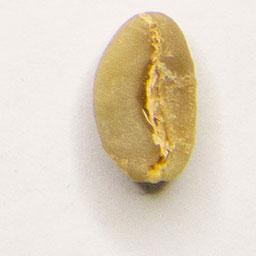longberry: (90, 6, 201, 188)
